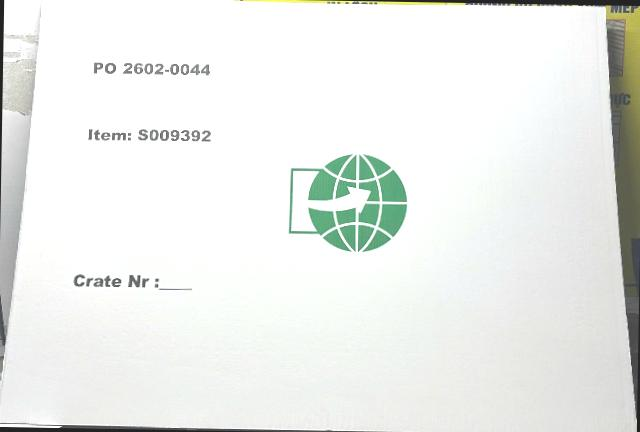box: (0, 0, 636, 432)
